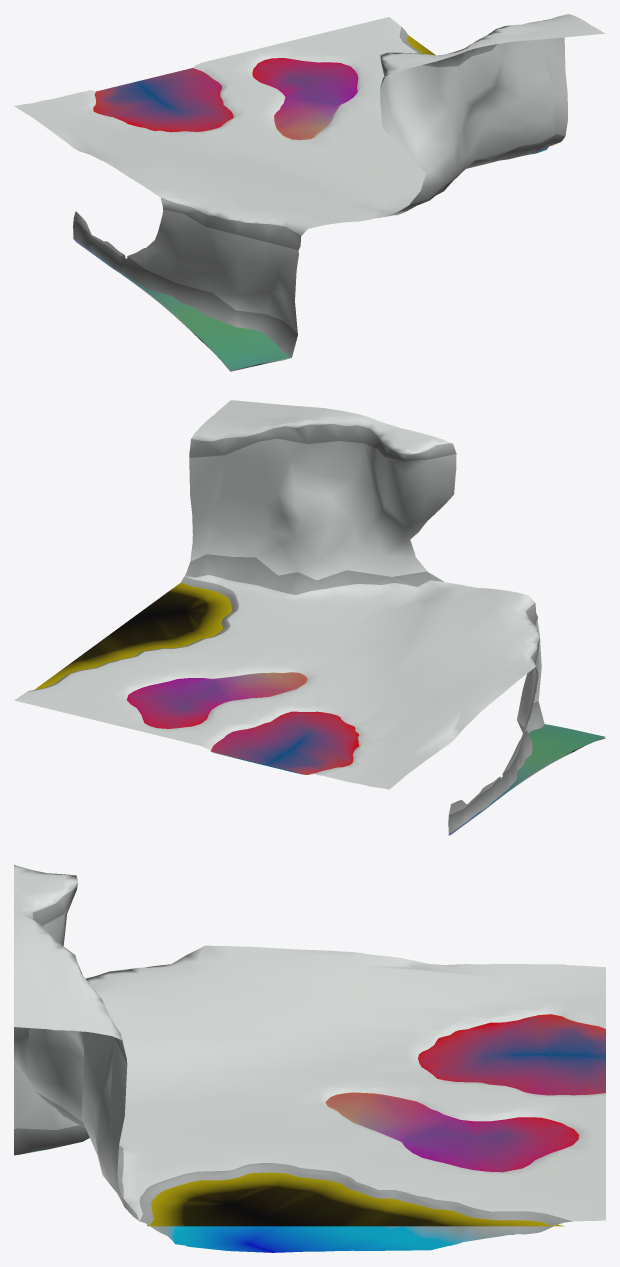
The picture shows the model from 3 angles, top to bottom: view 1: azimuth 30°, elevation 25°; view 2: azimuth 150°, elevation 25°; view 3: azimuth 270°, elevation 25°; orthographic projection. The views are drawn at different scales.
Visible parts, largest first — view 1: G:\FFXIV-MapTools\exports\r2f1\bg\ex1\01_roc_r2\fld\r2f1\bgp (×5); view 2: G:\FFXIV-MapTools\exports\r2f1\bg\ex1\01_roc_r2\fld\r2f1\bgp (×7); view 3: G:\FFXIV-MapTools\exports\r2f1\bg\ex1\01_roc_r2\fld\r2f1\bgp (×8).
Part boxes in pixels (x1,y1,x2,y2): G:\FFXIV-MapTools\exports\r2f1\bg\ex1\01_roc_r2\fld\r2f1\bgp (×5): [14, 14, 605, 370]; G:\FFXIV-MapTools\exports\r2f1\bg\ex1\01_roc_r2\fld\r2f1\bgp (×7): [14, 400, 605, 835]; G:\FFXIV-MapTools\exports\r2f1\bg\ex1\01_roc_r2\fld\r2f1\bgp (×8): [14, 864, 605, 1252].
Size of the model in its own units: 128 by 86.38 by 128.
